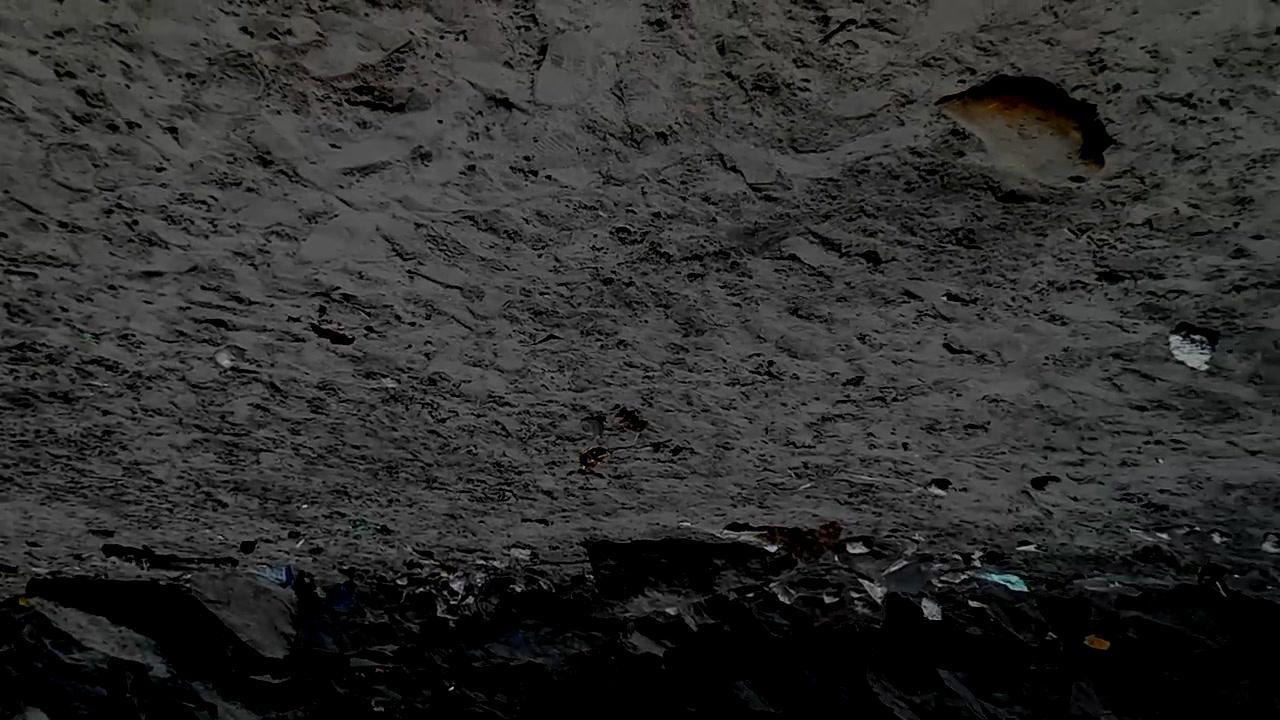large collection of objects: (1167, 320, 1218, 384)
obj: (931, 75, 1112, 186), (756, 520, 846, 558), (336, 75, 414, 112), (1124, 522, 1202, 546), (310, 321, 356, 349), (612, 402, 646, 432), (718, 520, 767, 540), (212, 344, 248, 371), (580, 446, 609, 472), (578, 418, 604, 440), (844, 537, 876, 554), (1260, 532, 1277, 556)
sand/background: (0, 538, 1279, 719)
